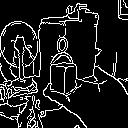cube: (48, 60, 82, 100)
